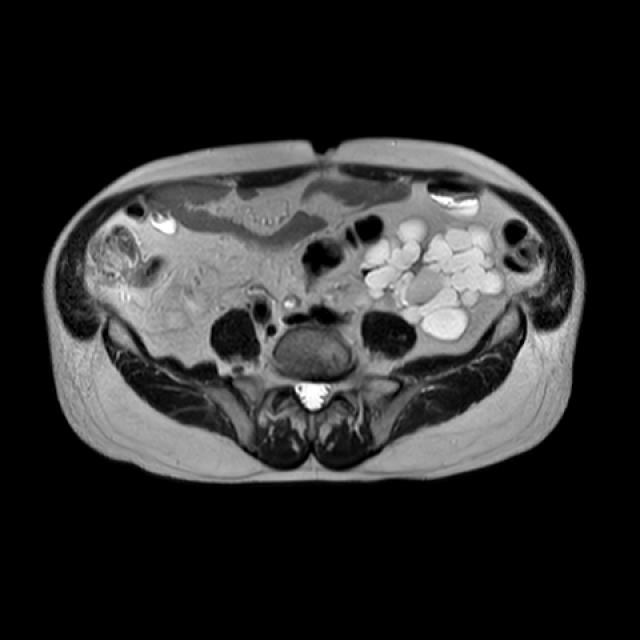sol: (359, 215, 504, 339)
